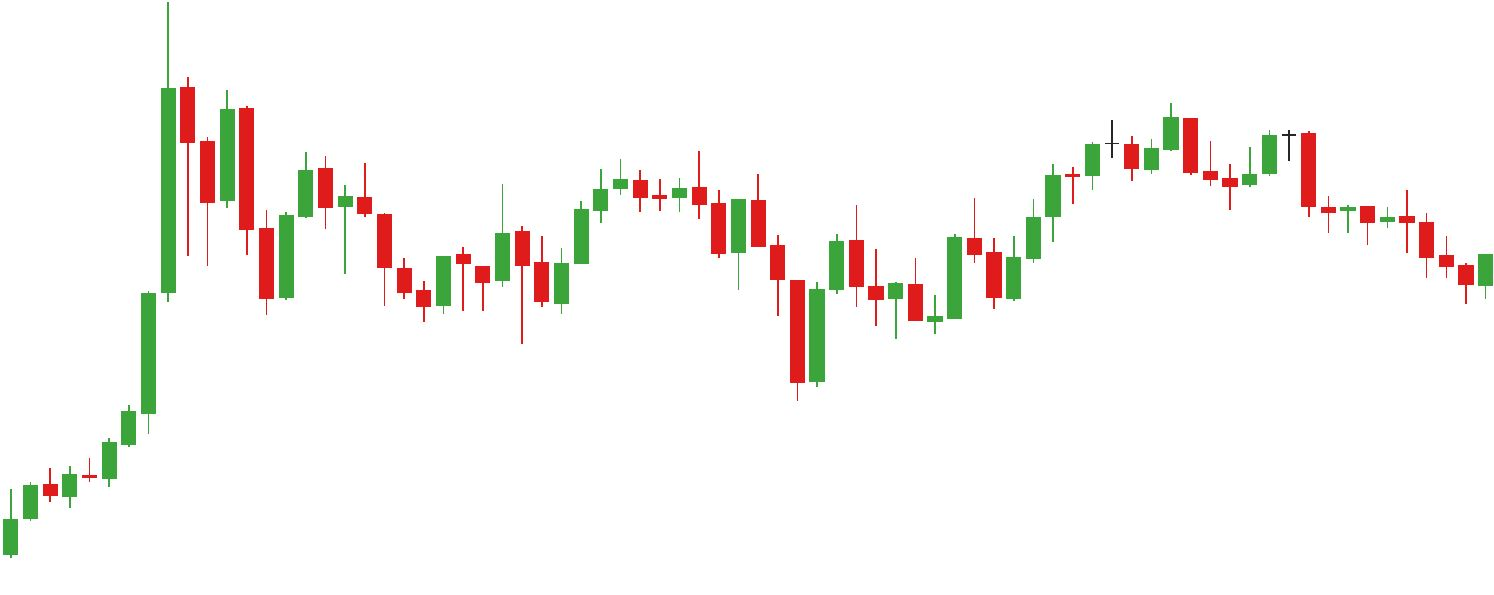buy: (512, 229, 826, 401)
